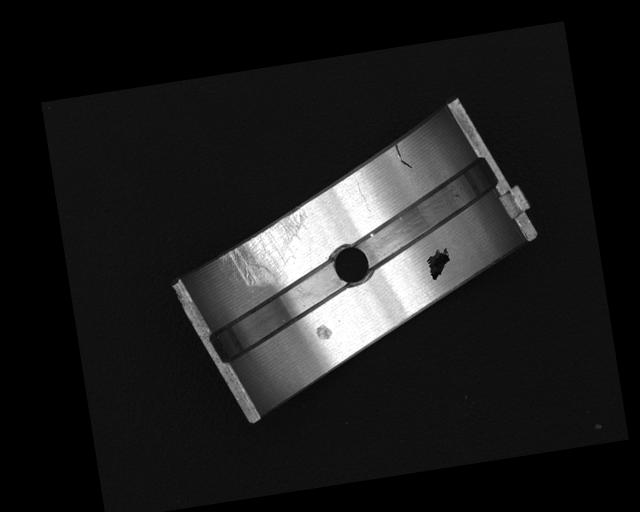blot: (424, 244, 453, 281)
bruise: (314, 322, 333, 341)
gap: (349, 159, 508, 272), (201, 259, 356, 365)
hole: (330, 239, 375, 289)
nick: (393, 139, 412, 170), (354, 180, 371, 214)
scratch: (211, 205, 317, 293)
